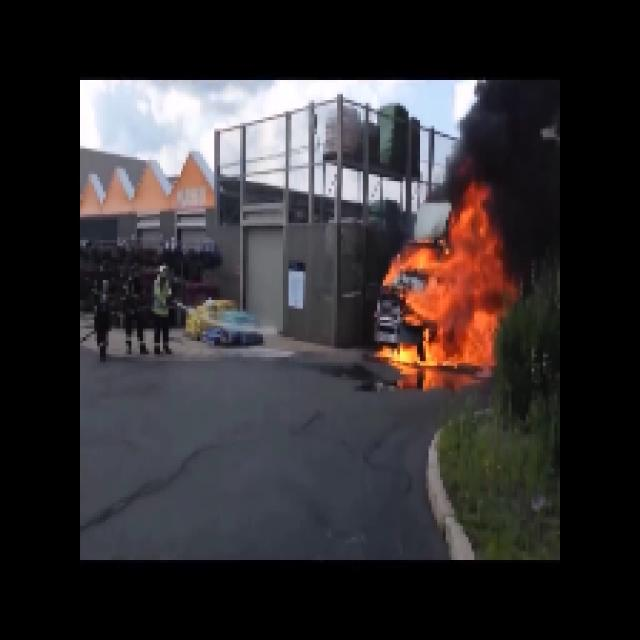fire: (408, 230, 498, 368)
smoke: (495, 82, 554, 248)
